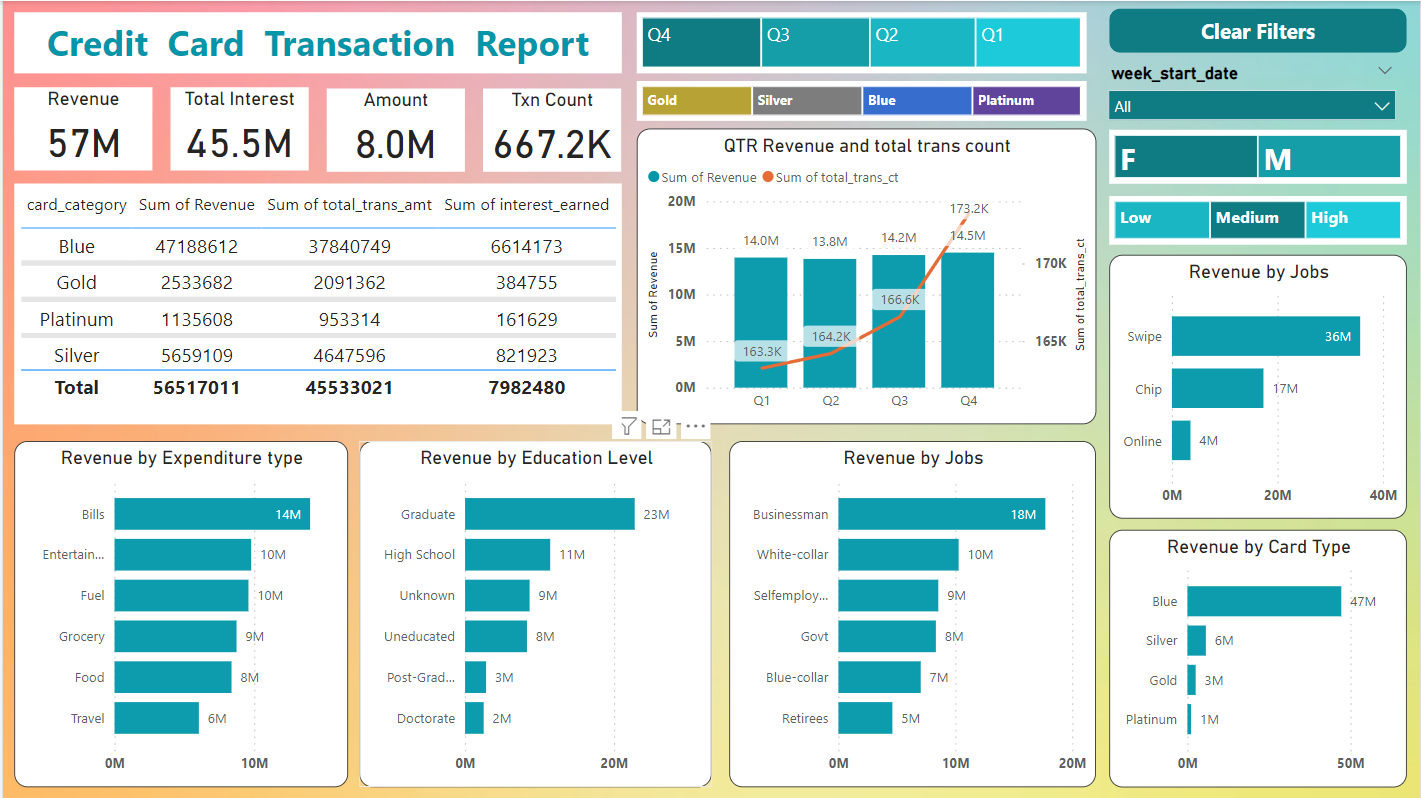

The page's visual inventory and layout, read from the dashboard file:
{"tool":"powerbi","page":{"name":"CC Transaction","canvas":[1280,720],"ordinal":1},"visuals":[{"type":"textbox","box":[10,10,548.8,55],"z":0},{"type":"lineStackedColumnComboChart","title":"QTR Revenue and total trans count","fields":{"Category":["public cc_detail.qtr"],"Y":["Sum(public cc_detail.Revenue)"],"Y2":["Sum(public cc_detail.total_trans_ct)"]},"box":[572.5,115,415,267.5],"z":1000},{"type":"barChart","title":"Revenue by Expenditure type","fields":{"Y":["Sum(public cc_detail.Revenue)"],"Category":["public cc_detail.exp_type"]},"box":[10,397.5,301.2,312.5],"z":2000},{"type":"barChart","title":"Revenue by Education Level","fields":{"Y":["Sum(public cc_detail.Revenue)"],"Category":["public cust_detail.education_level"]},"box":[321.2,397.5,318.8,312.5],"z":3000},{"type":"barChart","title":"Revenue by Jobs","fields":{"Y":["Sum(public cc_detail.Revenue)"],"Category":["public cust_detail.customer_job"]},"box":[656.2,397.5,331.2,312.5],"z":4000},{"type":"barChart","title":"Revenue by Card Type","fields":{"Y":["Sum(public cc_detail.Revenue)"],"Category":["public cc_detail.card_category"]},"box":[998.8,477.5,268.8,232.5],"z":5000},{"type":"barChart","title":"Revenue by Jobs","fields":{"Y":["Sum(public cc_detail.Revenue)"],"Category":["public cc_detail.use_chip"]},"box":[998.8,228.8,268.8,238.8],"z":6000},{"type":"tableEx","fields":{"Values":["public cc_detail.card_category","Sum(public cc_detail.Revenue)","Sum(public cc_detail.total_trans_amt)","Sum(public cc_detail.interest_earned)"]},"box":[10,165,548.8,217.5],"z":7000},{"type":"card","title":"Revenue","fields":{"Values":["Sum(public cc_detail.Revenue)"]},"box":[10,77.5,125,75],"z":8000},{"type":"card","title":"Total Interest","fields":{"Values":["Sum(public cc_detail.total_trans_amt)"]},"box":[151.2,77.5,125,75],"z":9000},{"type":"card","title":"Amount","fields":{"Values":["Sum(public cc_detail.interest_earned)"]},"box":[293,78.8,125,75],"z":10000},{"type":"card","title":"Txn Count","fields":{"Values":["Sum(public cc_detail.total_trans_ct)"]},"box":[433.8,78.8,125,75],"z":11000},{"type":"slicer","fields":{"Values":["public cc_detail.week_start_date"]},"box":[987.5,51.2,280,76.2],"z":12000},{"type":"treemap","fields":{"Group":["public cc_detail.qtr"],"Values":["Avg(public cc_detail.client_num)"]},"box":[572.5,10,406.2,55],"z":13000},{"type":"treemap","fields":{"Group":["public cust_detail.gender"],"Values":["Avg(public cc_detail.client_num)"]},"box":[998.8,116.2,268.8,48.8],"z":14000},{"type":"treemap","fields":{"Group":["public cc_detail.card_category"],"Values":["Avg(public cc_detail.client_num)"]},"box":[572.5,72.5,406.2,36.2],"z":15000},{"type":"treemap","fields":{"Group":["public cust_detail.IncomeGroup"],"Values":["Avg(public cc_detail.client_num)"]},"box":[998.8,176.2,268.8,43.8],"z":16000},{"type":"actionButton","box":[998.8,6.2,268.8,40],"z":17000}]}

Visuals, with their boxes in screenshot pixels (x1, y1, x2, y2), scaled from the page's 1280x720 canvas onto the 1421x798 screenshot:
textbox: box(11, 11, 620, 72)
"QTR Revenue and total trans count" lineStackedColumnComboChart: box(636, 127, 1096, 424)
"Revenue by Expenditure type" barChart: box(11, 441, 345, 787)
"Revenue by Education Level" barChart: box(357, 441, 710, 787)
"Revenue by Jobs" barChart: box(728, 441, 1096, 787)
"Revenue by Card Type" barChart: box(1109, 529, 1407, 787)
"Revenue by Jobs" barChart: box(1109, 254, 1407, 518)
tableEx - public cc_detail.card_category x Sum(public cc_detail.Revenue): box(11, 183, 620, 424)
"Revenue" card: box(11, 86, 150, 169)
"Total Interest" card: box(168, 86, 307, 169)
"Amount" card: box(325, 87, 464, 170)
"Txn Count" card: box(482, 87, 620, 170)
slicer - public cc_detail.week_start_date: box(1096, 57, 1407, 141)
treemap - public cc_detail.qtr x Avg(public cc_detail.client_num): box(636, 11, 1087, 72)
treemap - public cust_detail.gender x Avg(public cc_detail.client_num): box(1109, 129, 1407, 183)
treemap - public cc_detail.card_category x Avg(public cc_detail.client_num): box(636, 80, 1087, 120)
treemap - public cust_detail.IncomeGroup x Avg(public cc_detail.client_num): box(1109, 195, 1407, 244)
actionButton: box(1109, 7, 1407, 51)
